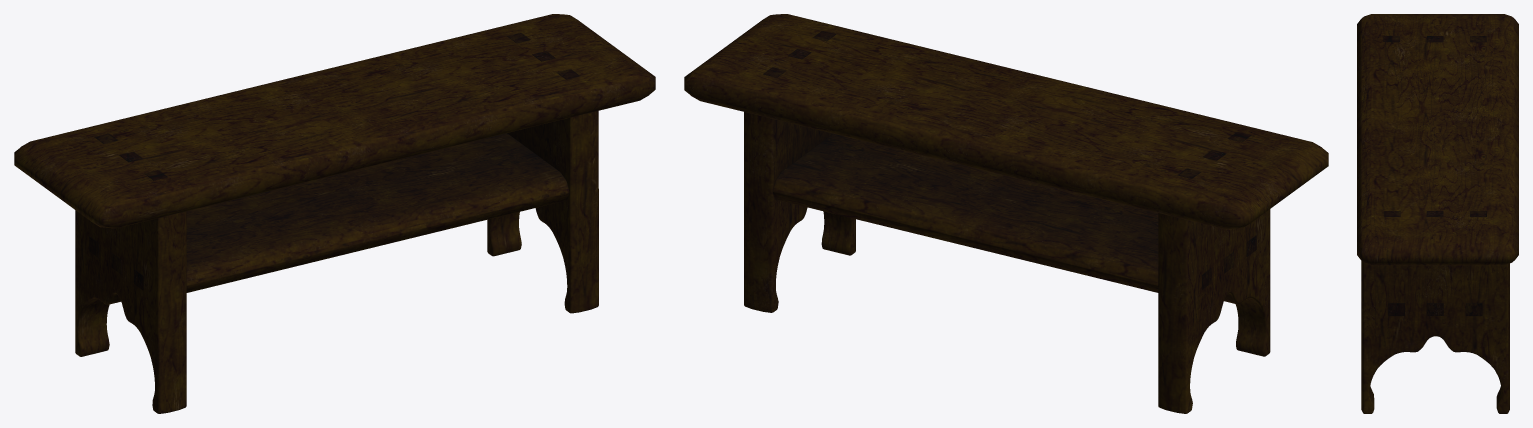
Rendered from SM_SJJ_tableA.fbx.
The picture shows the model from 3 angles, left to right: view 1: azimuth 30°, elevation 25°; view 2: azimuth 150°, elevation 25°; view 3: azimuth 270°, elevation 25°; orthographic projection. The views are drawn at different scales.
Parts seen in each view (by area): view 1: SM_SJJ_TableA; view 2: SM_SJJ_TableA; view 3: SM_SJJ_TableA.
Boxes of the visible parts, bbox=[...] form: SM_SJJ_TableA: bbox=[14, 14, 655, 413]; SM_SJJ_TableA: bbox=[684, 14, 1328, 413]; SM_SJJ_TableA: bbox=[1357, 14, 1518, 413].
Bounding box in the file's own units: 87.25 × 33.17 × 24.97.
